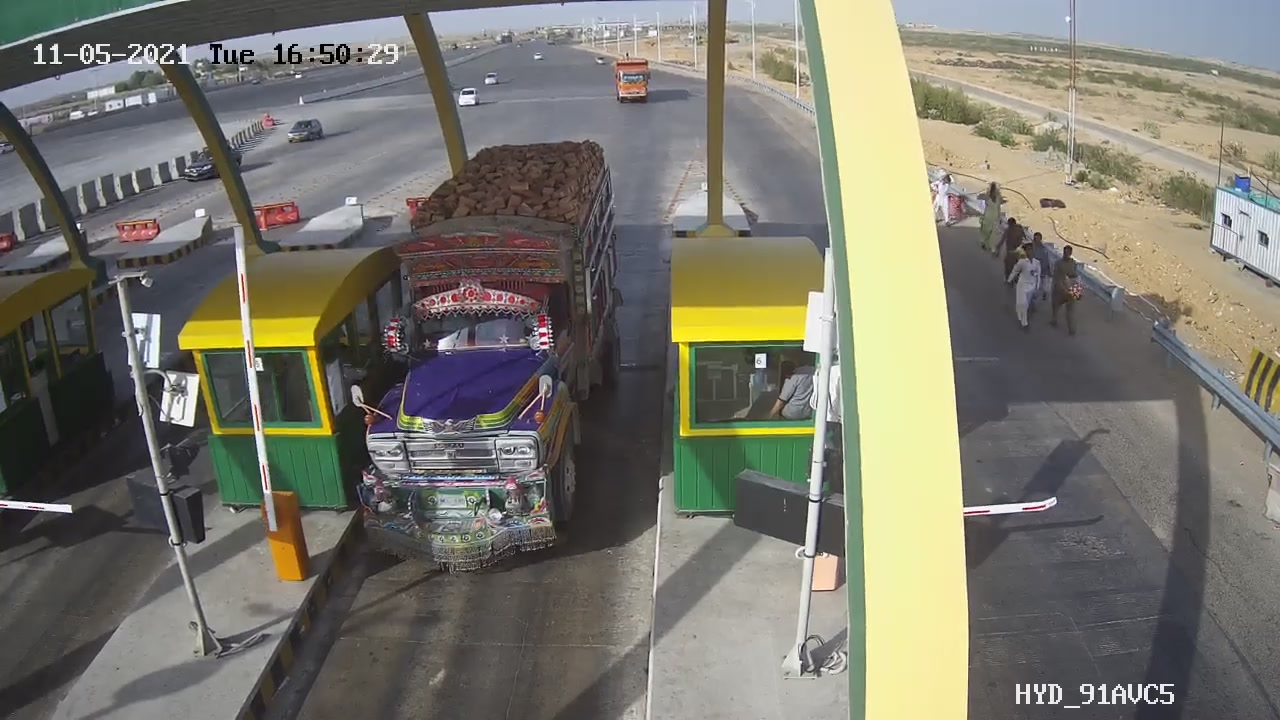F5: (332, 118, 653, 602)
